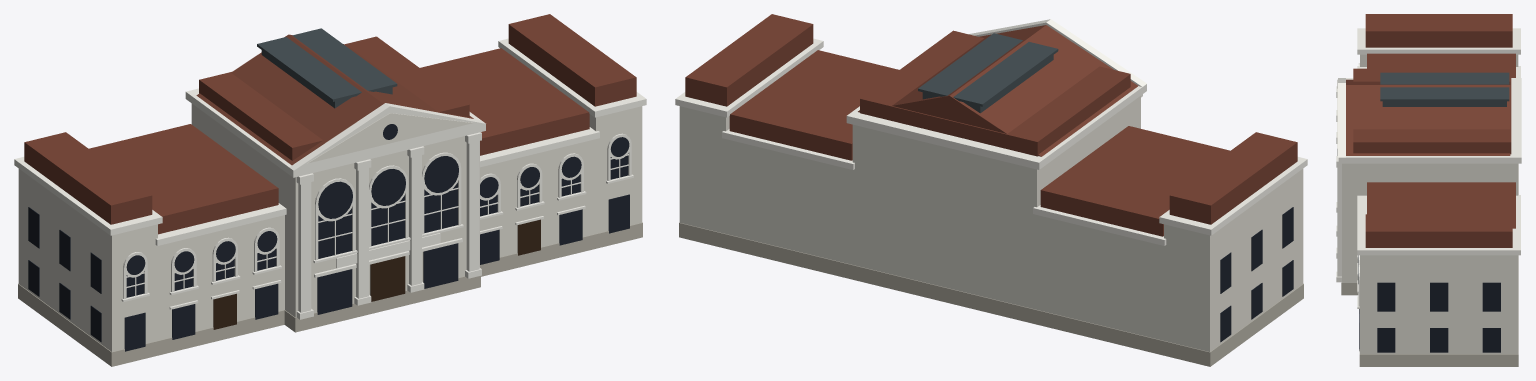
Rendered from trznica.glb.
3 views of the same model, side by side, from view 1: azimuth 30°, elevation 25°; view 2: azimuth 150°, elevation 25°; view 3: azimuth 270°, elevation 25° (orthographic). The views are drawn at different scales.
Visible parts, largest first — view 1: trznica; view 2: trznica; view 3: trznica.
Part boxes in pixels (bbox=[...]): trznica: bbox=[14, 14, 646, 366]; trznica: bbox=[675, 14, 1307, 366]; trznica: bbox=[1336, 14, 1521, 366].
Size of the model in its own units: 46.5 by 17 by 16.4.
